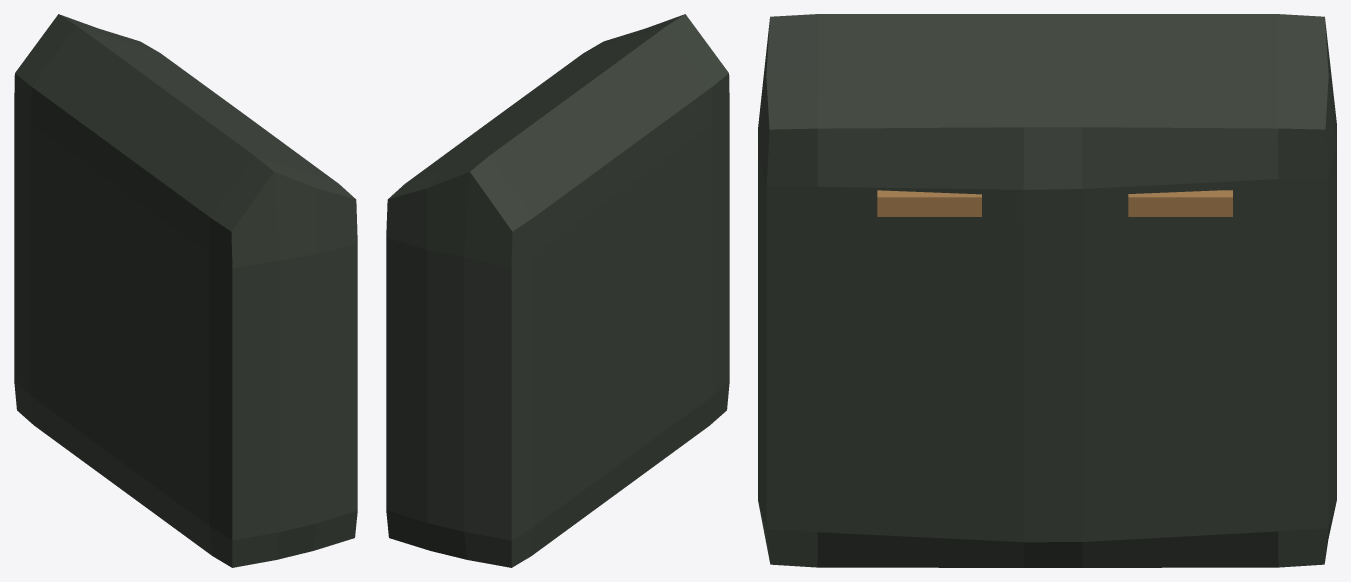
Rendered from SM_Prop_ElectricCabinet.fbx.
The picture shows the model from 3 angles, left to right: view 1: azimuth 30°, elevation 25°; view 2: azimuth 150°, elevation 25°; view 3: azimuth 270°, elevation 25°; orthographic projection. The views are drawn at different scales.
Parts seen in each view (by area): view 1: Cube_Closed; view 2: Cube_Closed; view 3: Cube_Closed.
Boxes of the visible parts, <box> form: Cube_Closed: <box>14,14,357,567</box>; Cube_Closed: <box>386,14,729,567</box>; Cube_Closed: <box>758,14,1336,567</box>.
Bounding box in the file's own units: 349 × 131 × 336.
